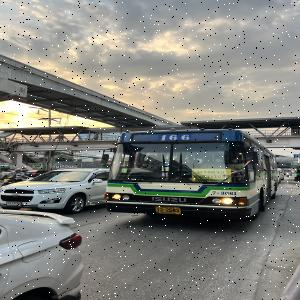BMTA-bus: (104, 130, 278, 222)
Bus Line Number: (157, 132, 193, 142)
Bus Side Number: (212, 190, 238, 196)
Destination Sign: (191, 168, 233, 183)
